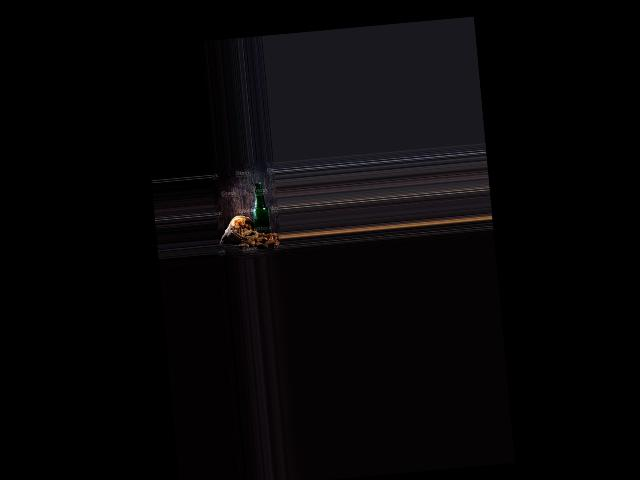beer: (250, 181, 271, 238)
